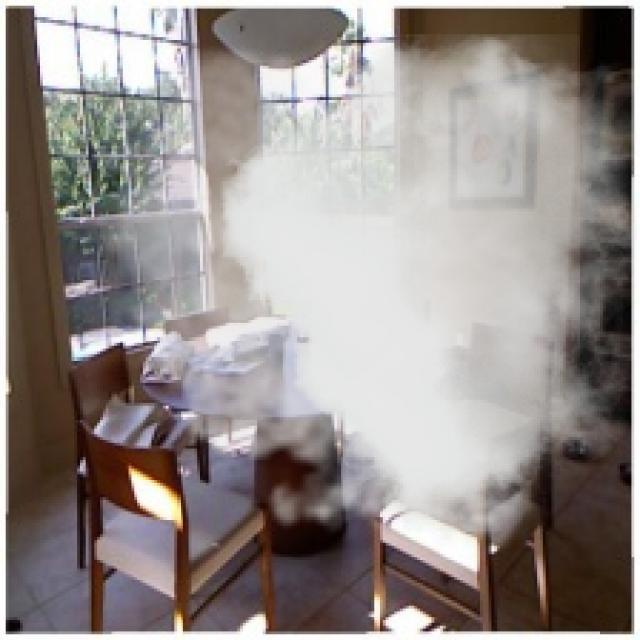Smoke: (74, 34, 637, 563)
